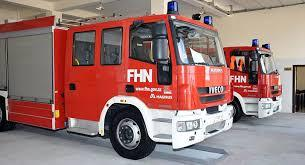Fire-engine: (0, 5, 227, 165)
